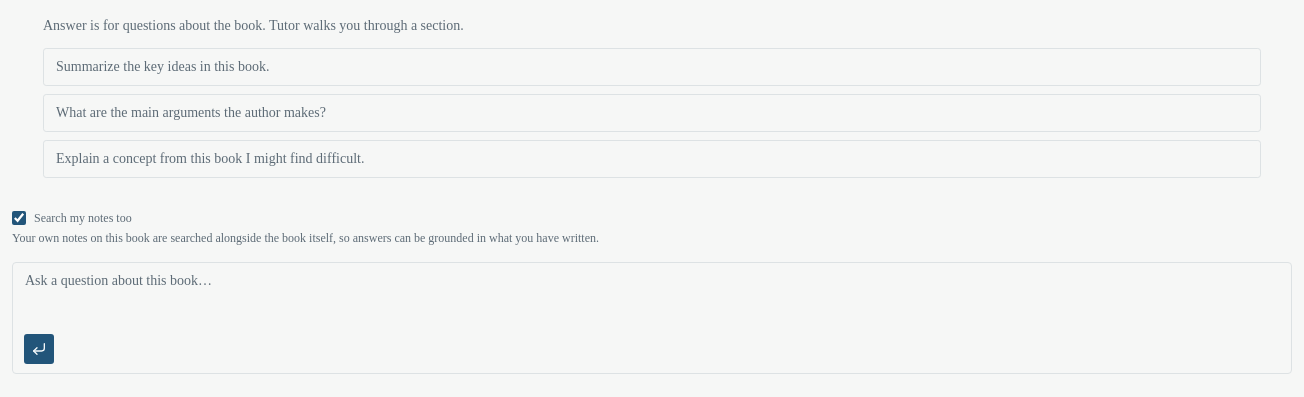
Test case: typed own-budget refusals › budget refusal: the per-book ceiling copy names the monthly per-book limit
In the text box with placeholder "Ask a question about this book…": (652, 295) x1=13 y1=263 x2=1291 y2=327, type "Who wrote the first algorithm?"
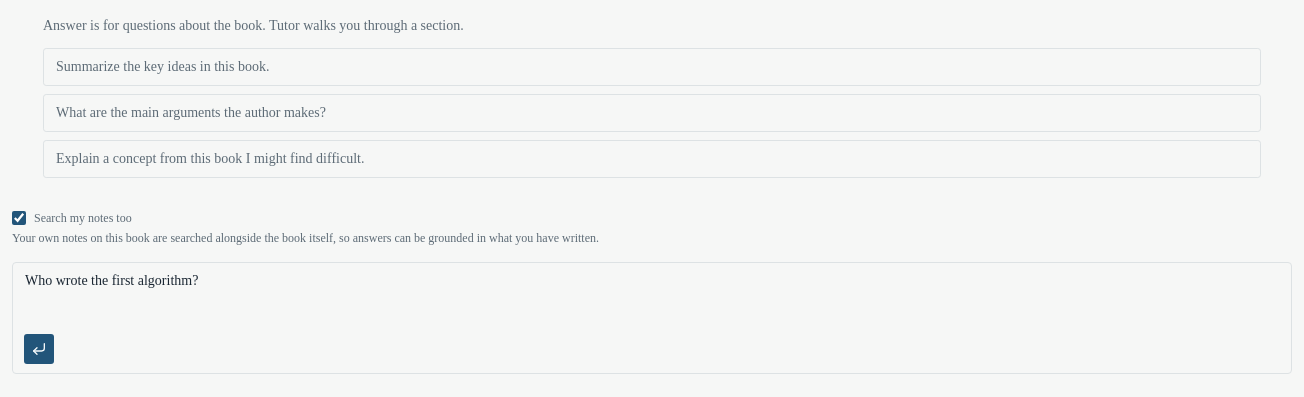
Click the button named "Submit": (39, 349) x1=23 y1=333 x2=55 y2=365
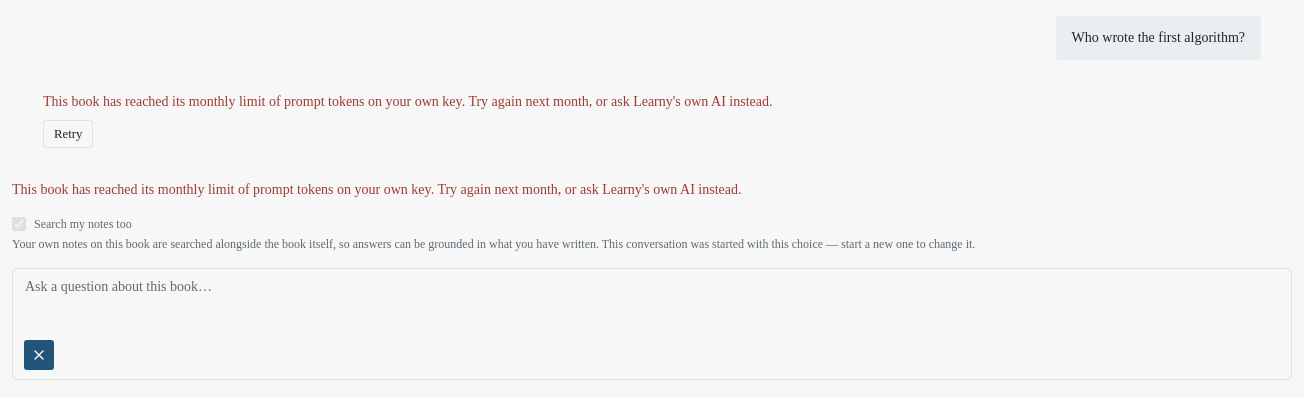
Expected: the text "This book has reached its monthly limit of prompt tokens on your own key. Try again next month, or ask Learny's own AI i" is shown, x1=43 y1=94 x2=772 y2=109
